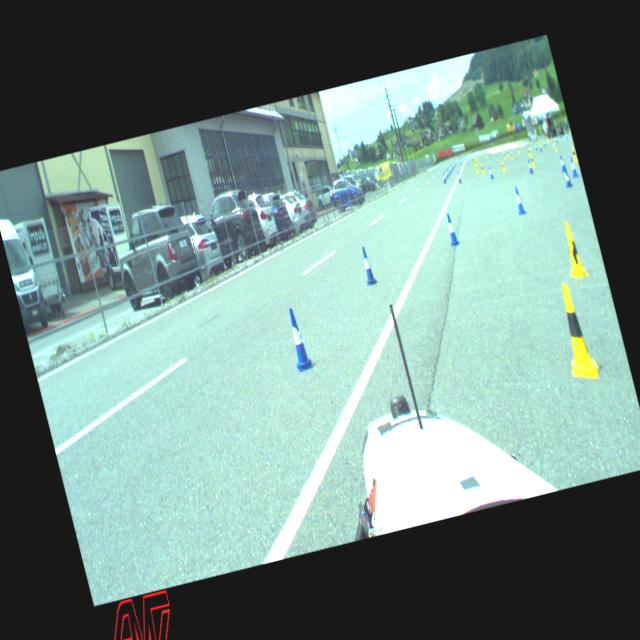blue_cone: (282, 306, 312, 370), (358, 247, 378, 286), (444, 212, 459, 245), (512, 186, 525, 214), (560, 166, 572, 187), (568, 157, 578, 177), (558, 154, 566, 171), (526, 158, 533, 174), (487, 166, 493, 178), (456, 172, 461, 182), (442, 174, 446, 183), (534, 142, 538, 150), (538, 143, 542, 150)
yellow_cone: (550, 280, 601, 382), (557, 220, 589, 280), (570, 146, 578, 161), (528, 154, 534, 166), (500, 160, 505, 172), (480, 162, 484, 174), (509, 151, 514, 160), (502, 150, 506, 160), (474, 163, 478, 173), (552, 142, 556, 150), (516, 146, 520, 153)
